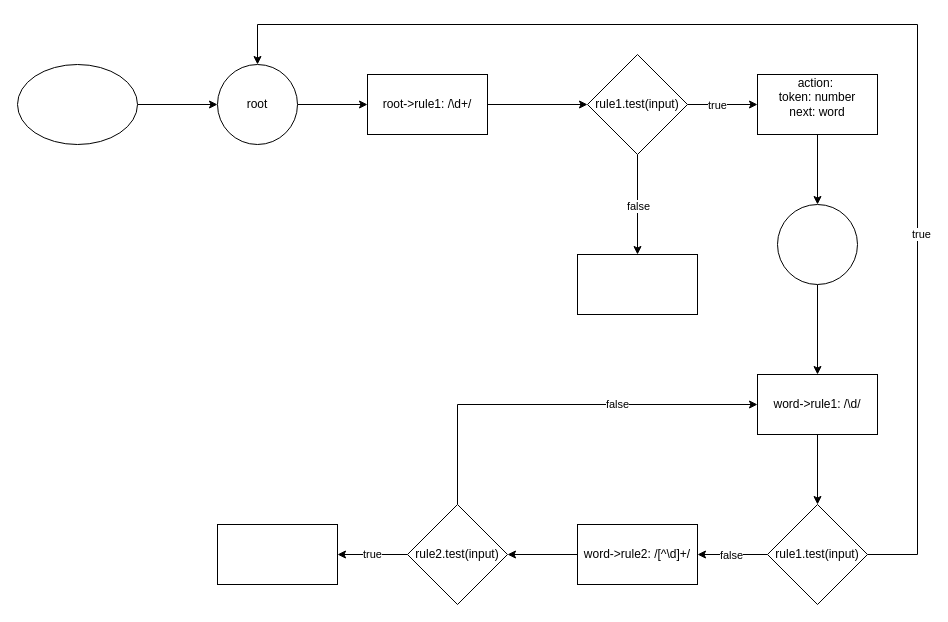
The diagram is 948 pixels wide and 622 high, and some of its shapes have lost their labels. The shapes that lost their labels are listed below. From the top down, each one's box as (x1, y1, x2, y2) in pixels, then its label:
(16, 64, 138, 144): input = "123abc"
(776, 204, 858, 284): word
(576, 254, 698, 314): end
(216, 524, 338, 584): action: token: string
